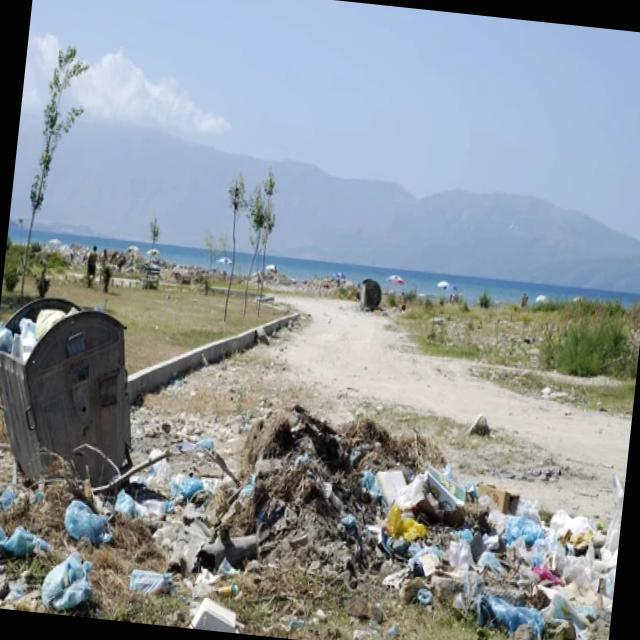garbage: (15, 368, 606, 640)
